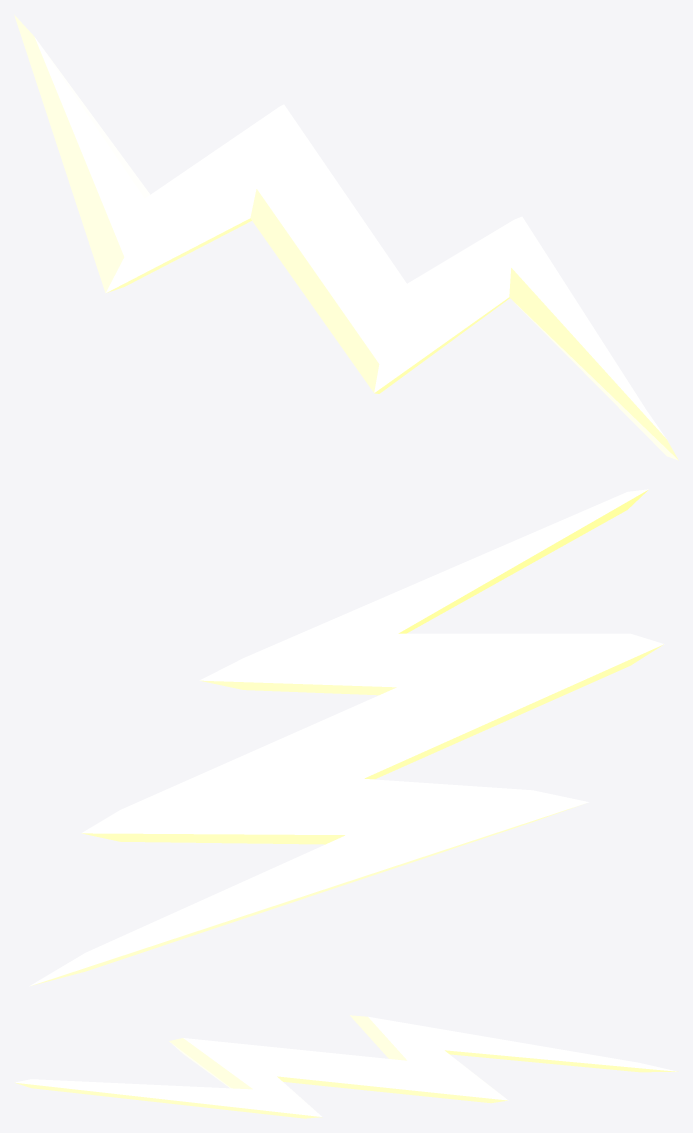
File: Rayo.fbx
3 renders of one model, top to bottom at view 1: azimuth 30°, elevation 25°; view 2: azimuth 150°, elevation 25°; view 3: azimuth 270°, elevation 25°, orthographic. The views are drawn at different scales.
Parts seen in each view (by area): view 1: Plane.027; view 2: Plane.027; view 3: Plane.027.
Part boxes in pixels (<box>): Plane.027: <box>14,14,678,460</box>; Plane.027: <box>29,489,664,986</box>; Plane.027: <box>14,1015,678,1118</box>.
Size of the model in its own units: 22.33 by 1.63 by 61.62.
